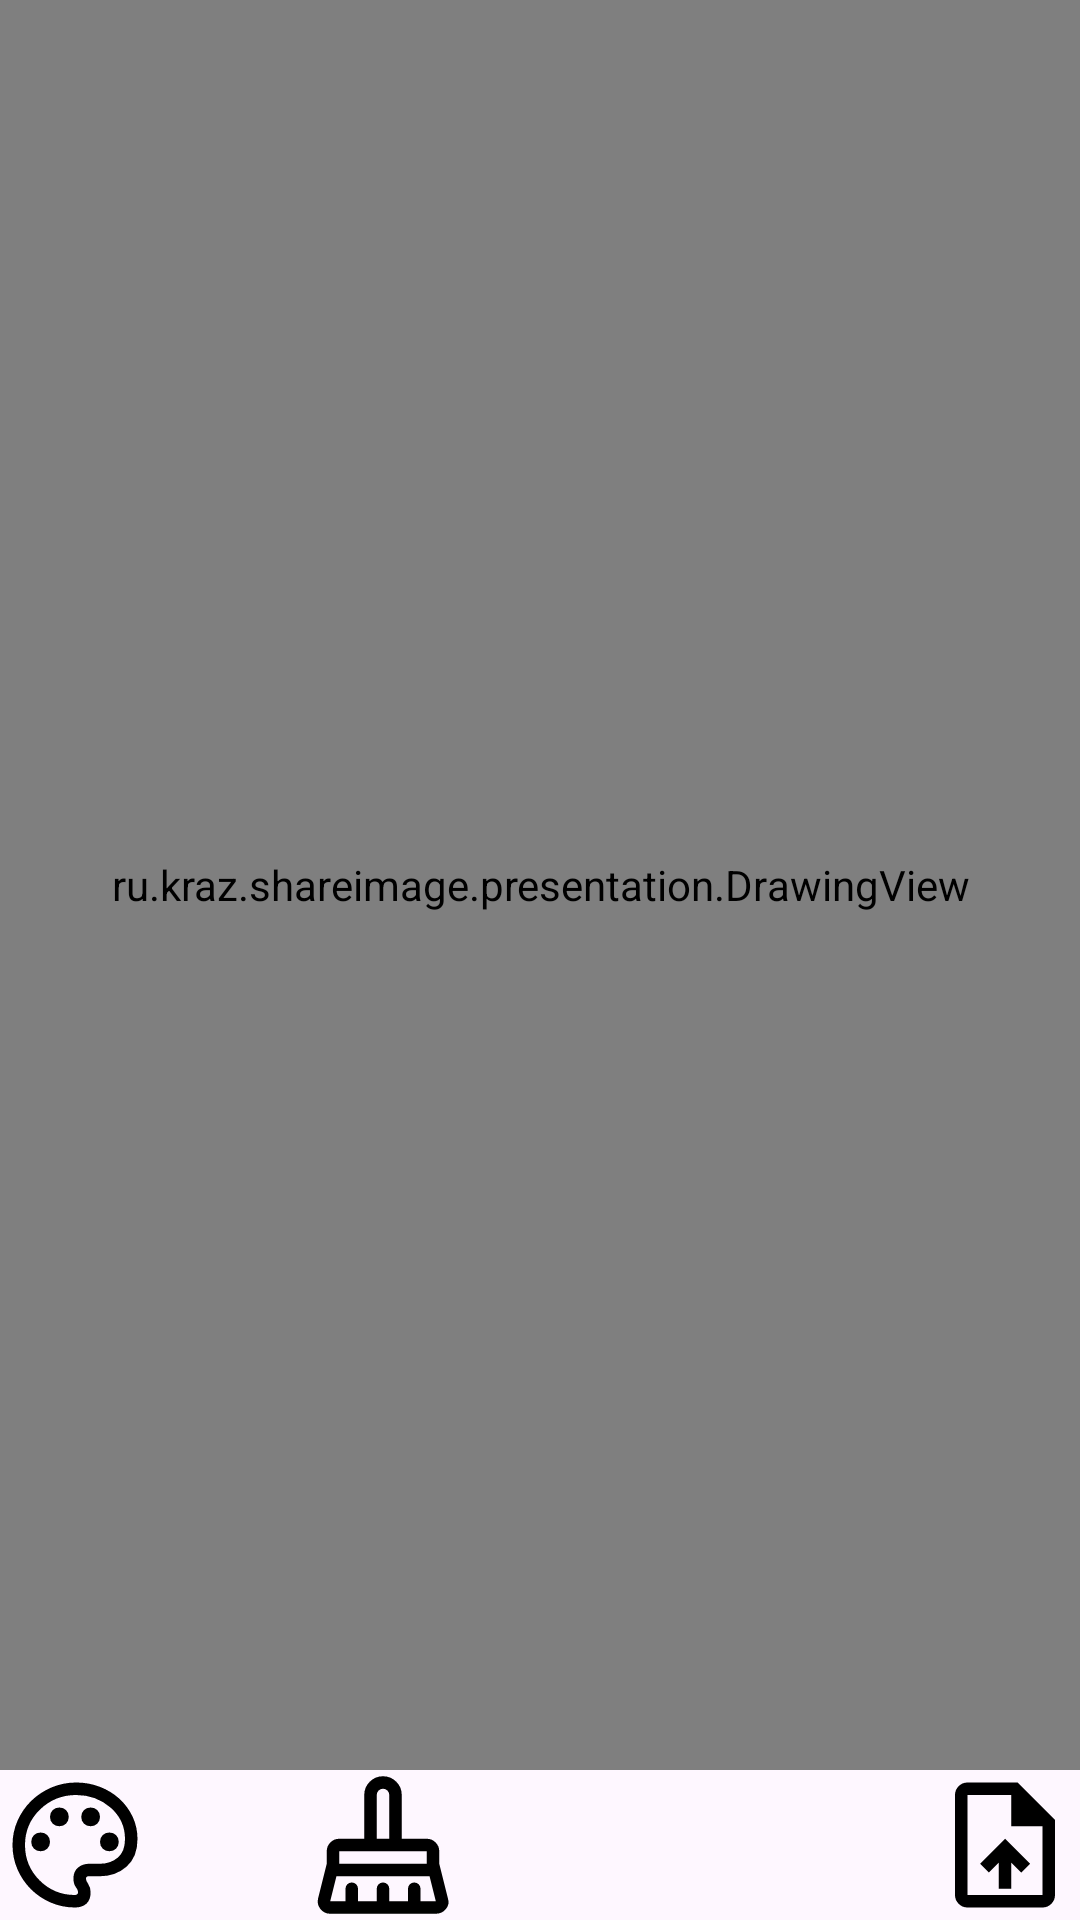

Icon click points for this 1080x1920 phone screenshot, format point (x, y):
mop: point (383, 1845)
palette: point (75, 1845)
upload file: point (1005, 1845)
